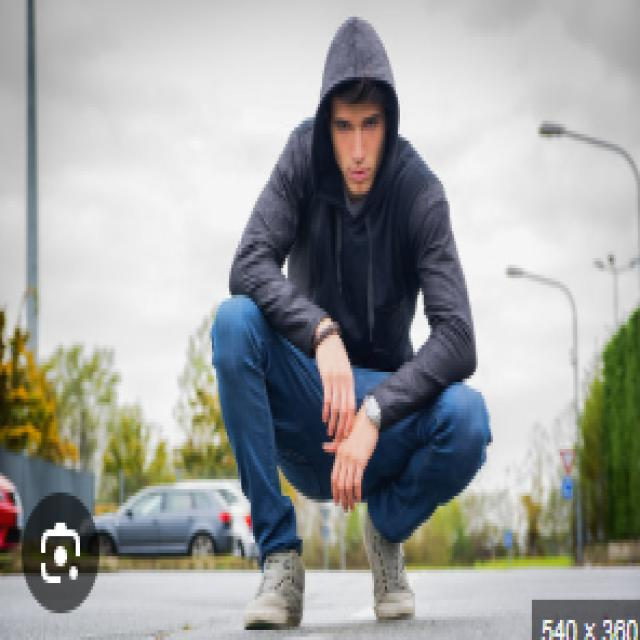4_capucha: (312, 14, 400, 223)
